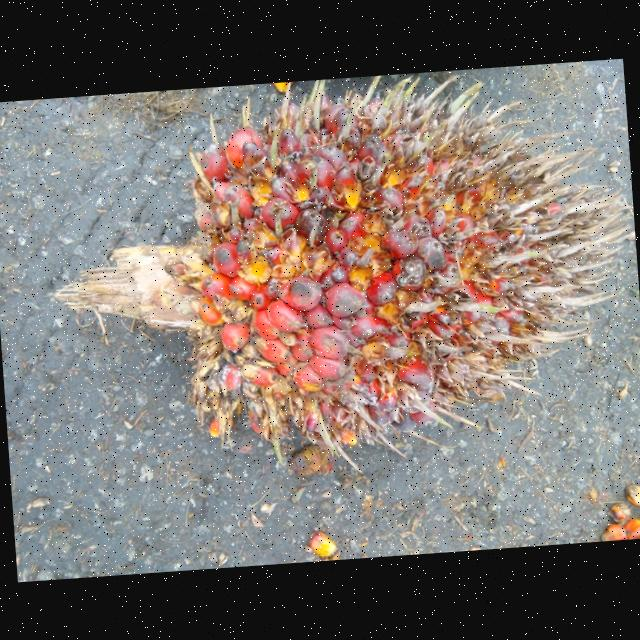Ripe: (194, 90, 573, 453)
